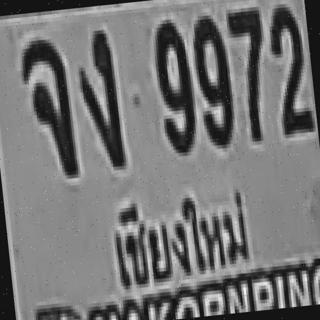A07: (72, 26, 124, 170)
A08: (18, 34, 76, 179)
N02: (266, 1, 312, 133)
N07: (224, 3, 271, 140)
N09: (188, 10, 235, 147), (151, 15, 196, 154)
P11: (92, 174, 258, 291)
